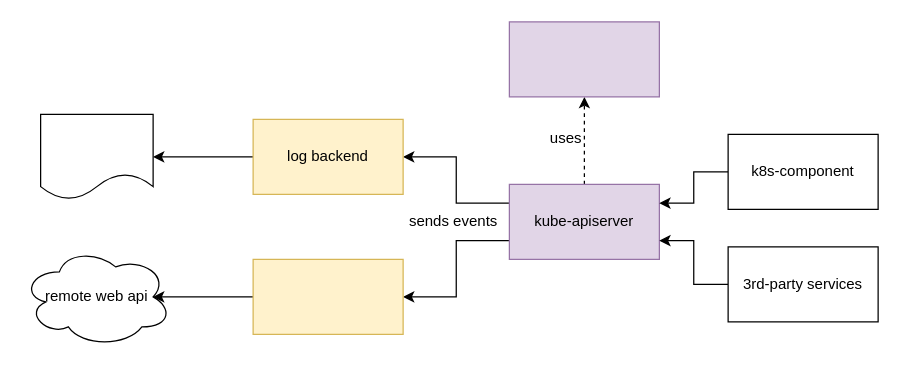
The diagram is 900 pixels wide and 369 high, and some of its shapes have lost their labels. The shapes that lost their labels are listed below. From the top down, each one's centre as x and y in pixels, then its label:
At pixel 583 59: "audit policy".
At pixel 96 156: "JSON file".
At pixel 327 296: "webhook backend".
